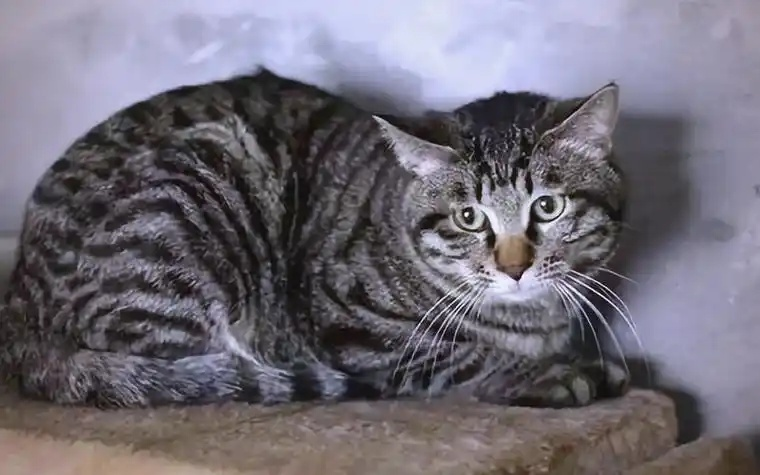狸花猫: (0, 71, 405, 405), (306, 85, 628, 405)
